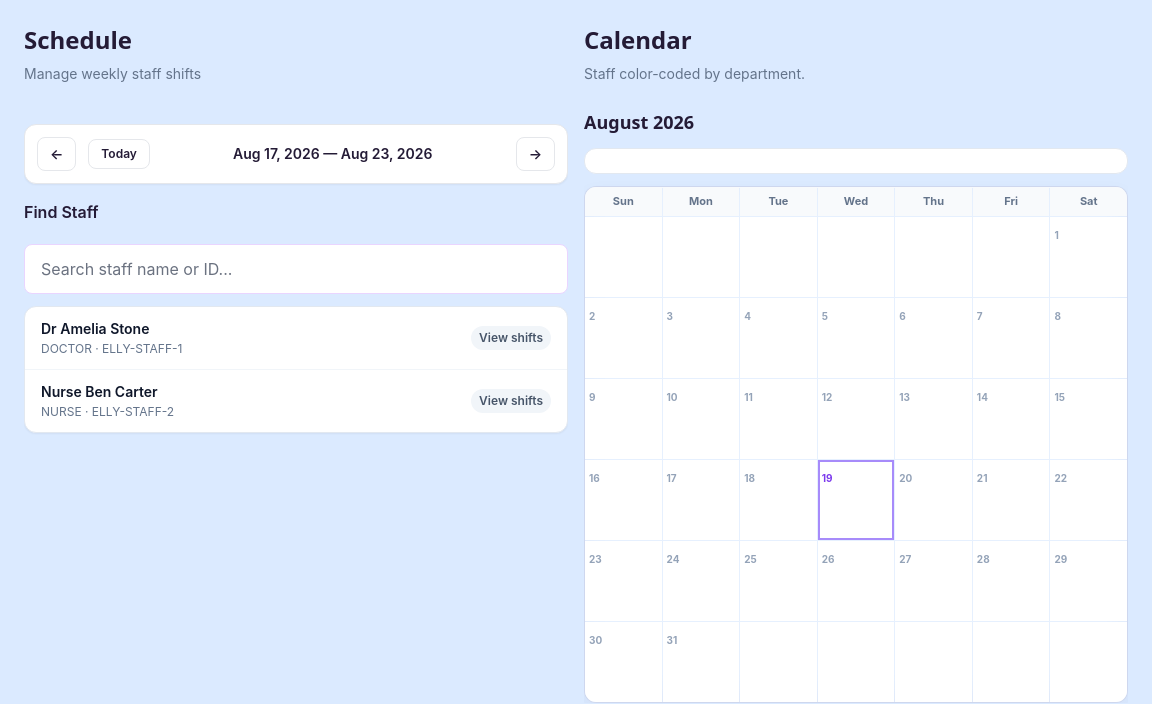
Test: StaffSchedule › selects a staff member from search results to view shifts
Expected: the text "Dr Amelia Stone" is shown, left=41, top=320, right=150, bottom=337
Type "amelia" into the field with placeholder "Search staff name or ID...".
click(296, 269); type("amelia")  # box left=24, top=244, right=568, bottom=294
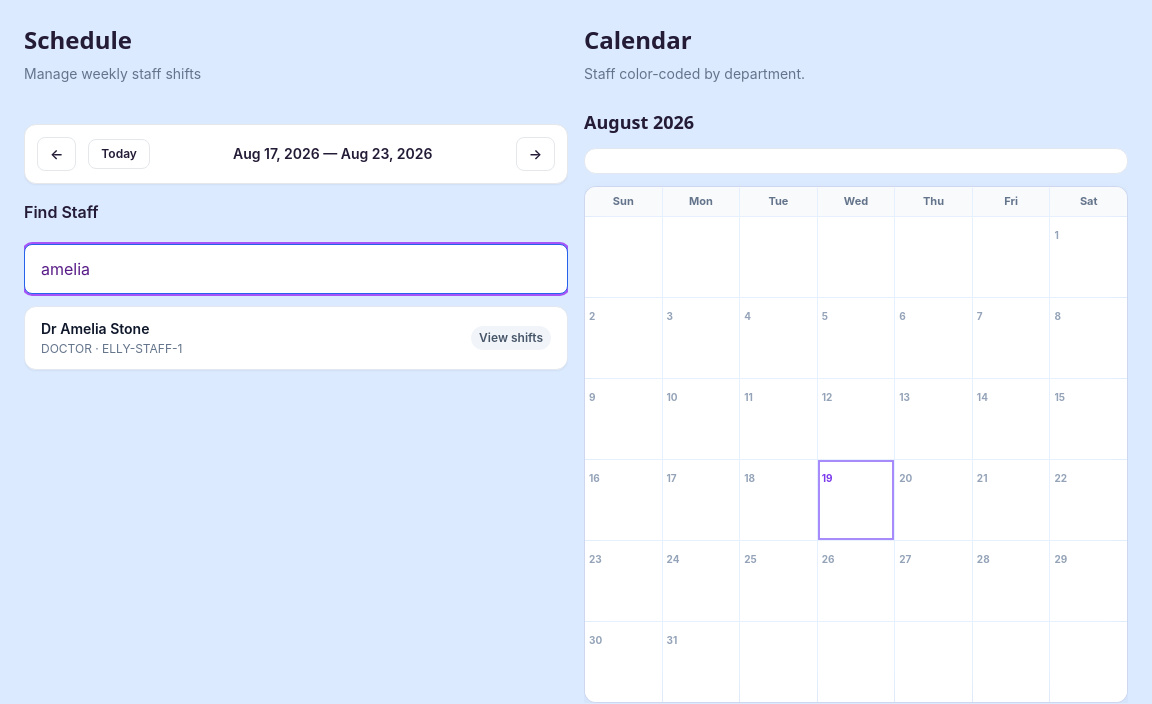
Expected: the text "Dr Amelia Stone" is shown, left=41, top=320, right=150, bottom=337
Now the button "Nurse Ben Carter" is gone
Click the button "Dr Amelia Stone DOCTOR · ELLY-STAFF-1 View shifts".
click(95, 328)  # box left=25, top=307, right=567, bottom=369
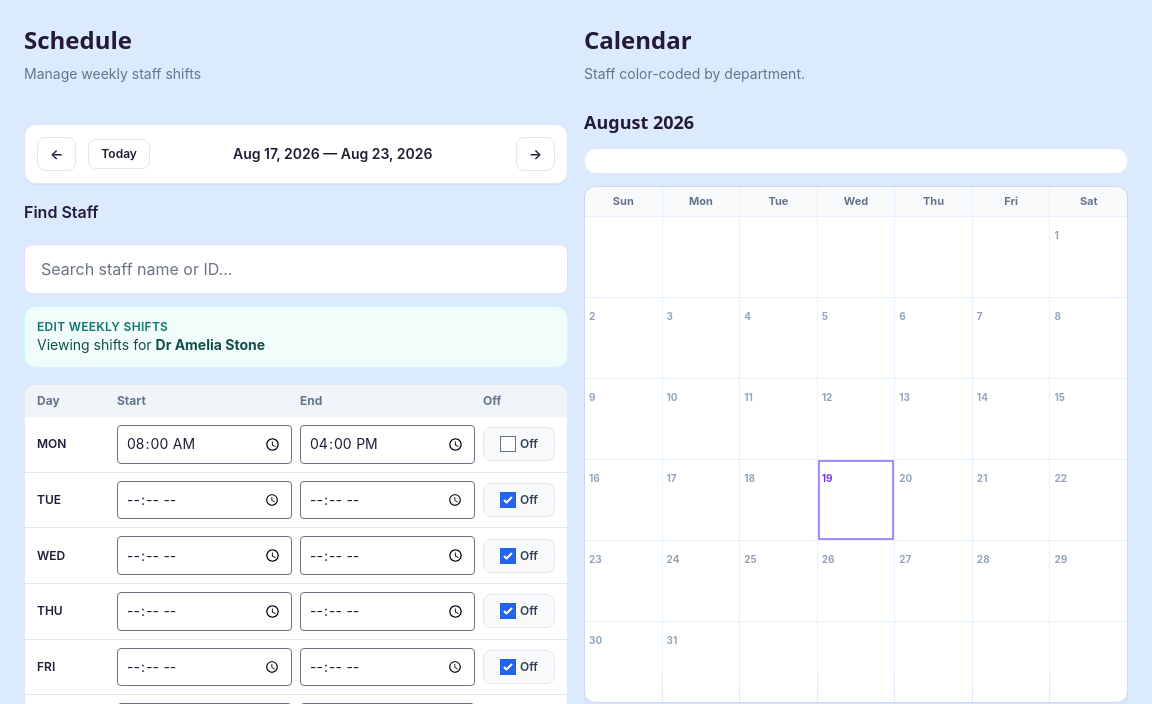
Now the text "Edit weekly shifts Viewing shifts for Dr Amelia Stone" is shown, box left=24, top=306, right=568, bottom=368
Now the field with placeholder "Search staff name or ID..." is empty, box left=24, top=244, right=568, bottom=294
Now the button "View shifts" is gone
